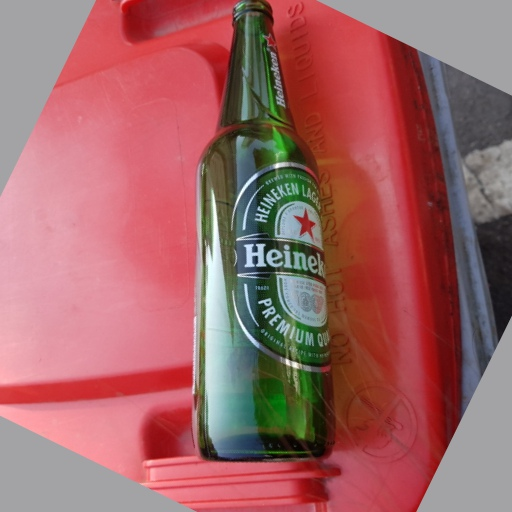Glass_1: (192, 1, 340, 466)
